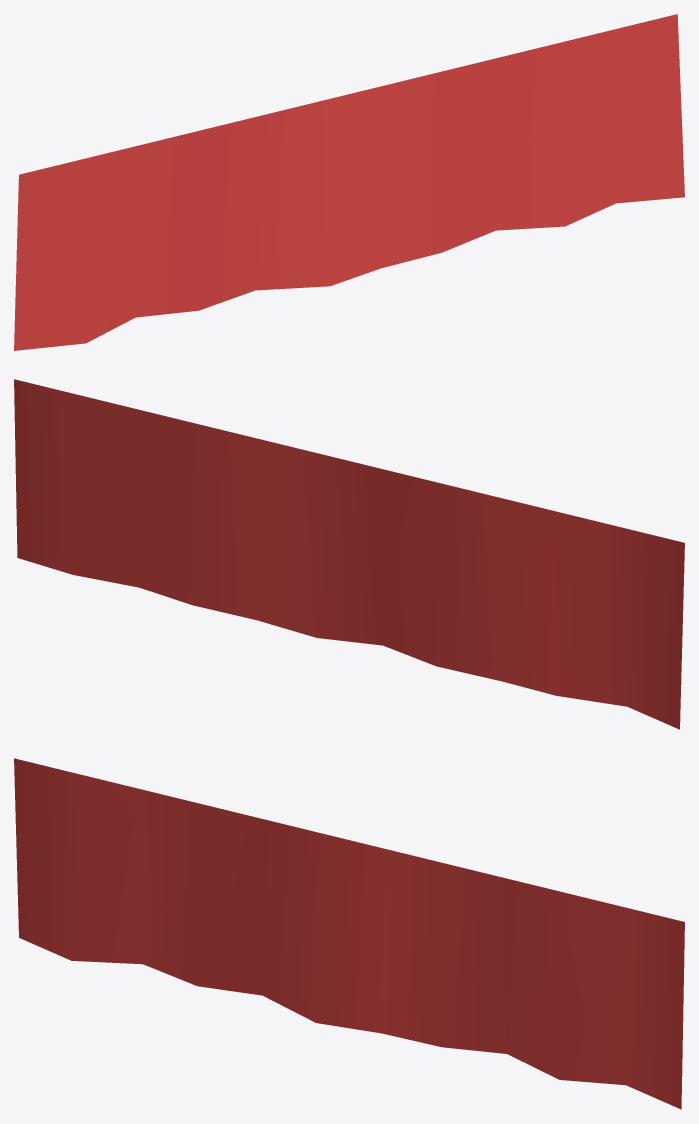
The model's file is Curtains_004.glb.
3 views of the same model, one above another, from view 1: azimuth 30°, elevation 25°; view 2: azimuth 150°, elevation 25°; view 3: azimuth 330°, elevation 25° (orthographic).
Visible parts, largest first — view 1: Curtains_004; view 2: Curtains_004; view 3: Curtains_004.
Part boxes in pixels (x1,y1,x2,y2): Curtains_004: [14, 14, 684, 350]; Curtains_004: [14, 379, 684, 729]; Curtains_004: [14, 758, 684, 1109].
Bounding box in the file's own units: 3 × 0.7888 × 0.0968.
Materials: 1 (1 with a texture image).
